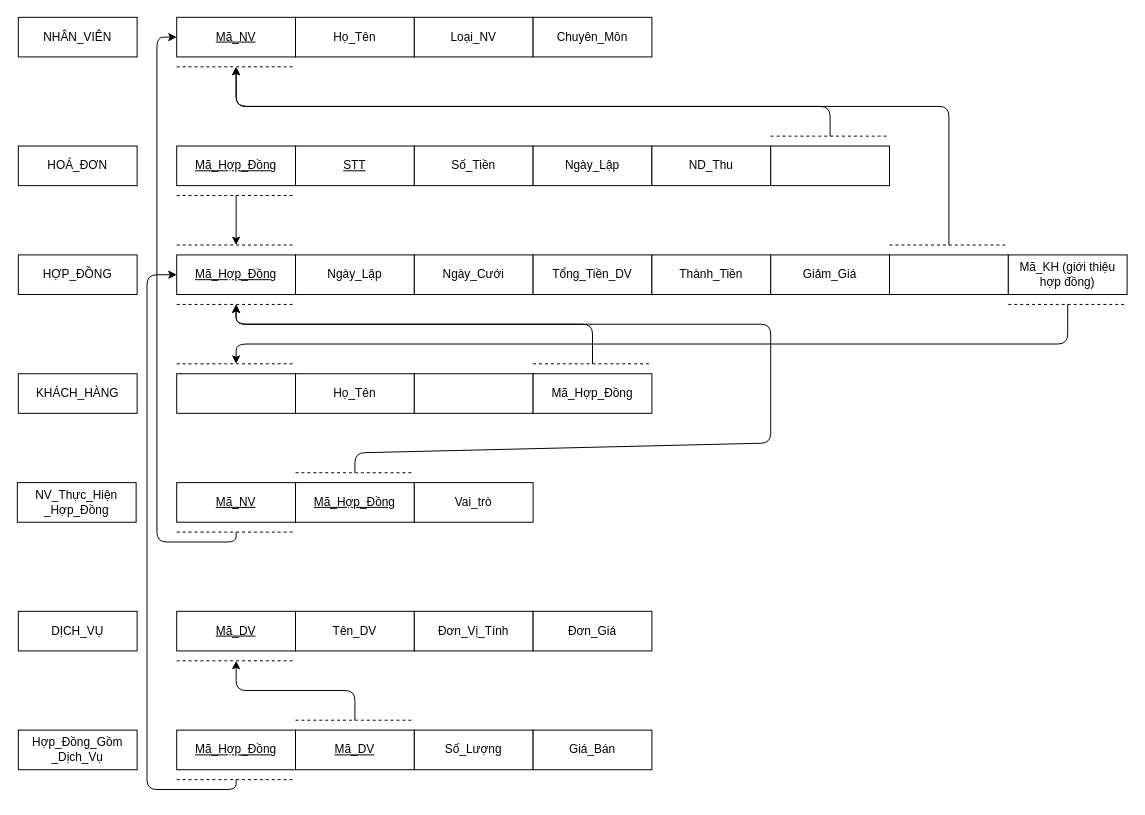
Some shapes in this 1145 by 815 pixel diagram are drawn without their labels. The box of each missing label's shape, as (x1, y1, x2, y2) in pixels:
Mã_KH: (176, 373, 296, 413)
Mã_NV (lập hoá đơn): (770, 145, 890, 186)
Mã_NV (lập hợp đồng): (889, 254, 1008, 295)
SĐT: (413, 373, 533, 413)
